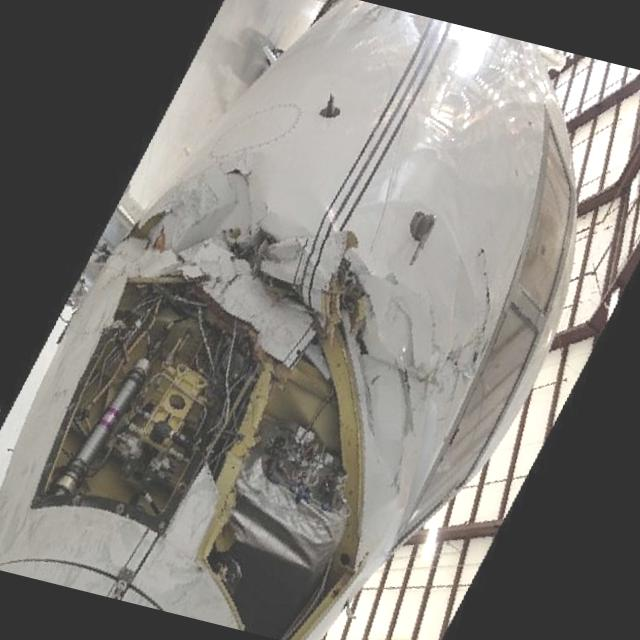crack: (453, 244, 511, 337), (210, 160, 274, 232)
